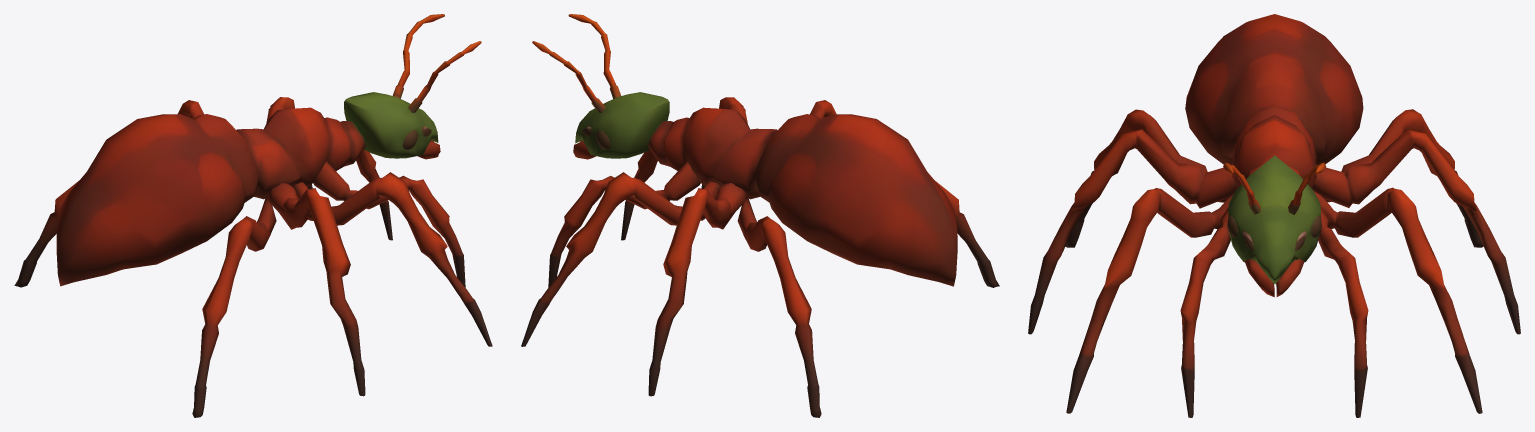
File: generate_model.glb
The picture shows the model from 3 angles, left to right: view 1: azimuth 30°, elevation 25°; view 2: azimuth 150°, elevation 25°; view 3: azimuth 270°, elevation 25°; orthographic projection. The views are drawn at different scales.
Visible parts, largest first — view 1: tripo_node_53a3fd80-fff4-4e31-b1d9-43c51b0ebdd2; view 2: tripo_node_53a3fd80-fff4-4e31-b1d9-43c51b0ebdd2; view 3: tripo_node_53a3fd80-fff4-4e31-b1d9-43c51b0ebdd2.
Part boxes in pixels (box(x1,y1,x2,y2)): tripo_node_53a3fd80-fff4-4e31-b1d9-43c51b0ebdd2: box(14, 14, 492, 417); tripo_node_53a3fd80-fff4-4e31-b1d9-43c51b0ebdd2: box(521, 14, 999, 417); tripo_node_53a3fd80-fff4-4e31-b1d9-43c51b0ebdd2: box(1028, 14, 1520, 417).
Bounding box in the file's own units: 0.9995 × 0.5679 × 0.9106.
1 material, 1 textured.
